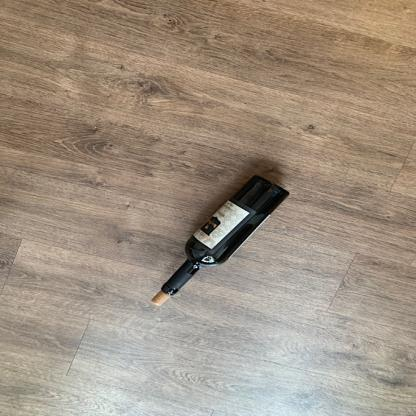trash: (160, 177, 292, 296)
